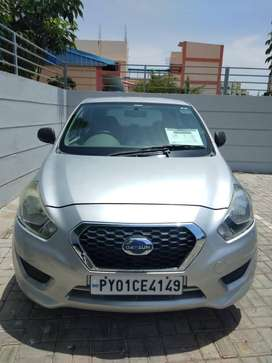PY01CE4149: (91, 274, 184, 295)
